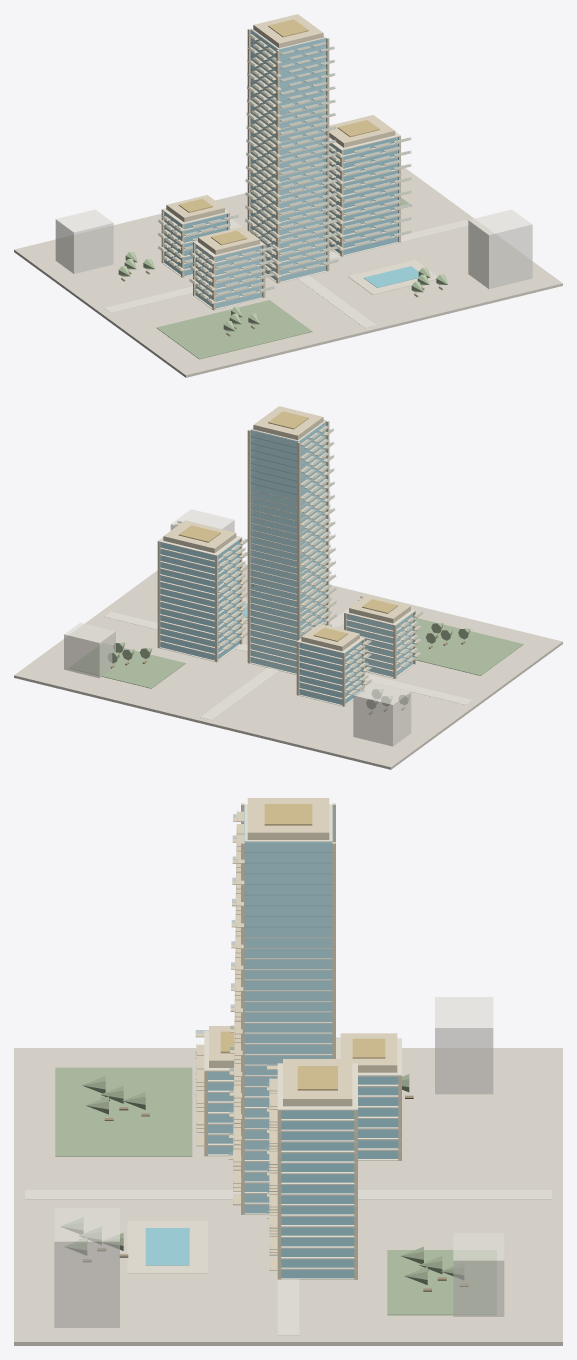
File: rich-ashira-v2.glb
The picture shows the model from 3 angles, top to bottom: view 1: azimuth 30°, elevation 25°; view 2: azimuth 150°, elevation 25°; view 3: azimuth 270°, elevation 25°; orthographic projection. The views are drawn at different scales.
Visible parts, largest first — view 1: site, b0glass, green1, ctx0, b1glass, ctx1, b2glass, pathx, b3glass, b0crown, b1crown, courtdeck (+7 smaller); view 2: site, b0glass, b1glass, green1, ctx1, green2, b3glass, ctx2, b2glass, pathx, b0crown, b1crown (+7 smaller); view 3: site, b0glass, green1, b1glass, ctx0, green2, ctx1, ctx2, pathz, b3glass, courtdeck, b0crown (+49 smaller).
Part boxes in pixels (x1=…): site: x1=14, y1=164, x2=562, y2=377; b0glass: x1=250, y1=29, x2=326, y2=281; green1: x1=156, y1=300, x2=312, y2=359; ctx0: x1=468, y1=209, x2=532, y2=288; b1glass: x1=329, y1=137, x2=398, y2=254; ctx1: x1=55, y1=209, x2=113, y2=273; b2glass: x1=195, y1=245, x2=262, y2=308; pathx: x1=104, y1=219, x2=472, y2=312; b3glass: x1=164, y1=212, x2=226, y2=275; b0crown: x1=253, y1=14, x2=323, y2=48; b1crown: x1=323, y1=115, x2=395, y2=147; courtdeck: x1=348, y1=260, x2=437, y2=294; site: x1=14, y1=564, x2=562, y2=769; b0glass: x1=250, y1=421, x2=326, y2=673; b1glass: x1=160, y1=540, x2=239, y2=660; green1: x1=412, y1=618, x2=523, y2=675; ctx1: x1=353, y1=682, x2=411, y2=746; green2: x1=69, y1=643, x2=185, y2=688; b3glass: x1=299, y1=641, x2=362, y2=704; ctx2: x1=64, y1=623, x2=115, y2=678; b2glass: x1=346, y1=613, x2=413, y2=676; pathx: x1=104, y1=611, x2=472, y2=704; b0crown: x1=253, y1=406, x2=323, y2=440; b1crown: x1=163, y1=520, x2=236, y2=553; site: x1=14, y1=1048, x2=562, y2=1345; b0glass: x1=244, y1=804, x2=332, y2=1213; green1: x1=55, y1=1067, x2=192, y2=1156; b1glass: x1=281, y1=1110, x2=354, y2=1278; ctx0: x1=54, y1=1207, x2=119, y2=1327; green2: x1=387, y1=1250, x2=496, y2=1315; ctx1: x1=435, y1=997, x2=493, y2=1094; ctx2: x1=453, y1=1233, x2=504, y2=1316; pathz: x1=25, y1=1190, x2=551, y2=1199; b3glass: x1=358, y1=1076, x2=398, y2=1158; courtdeck: x1=127, y1=1221, x2=207, y2=1273; b0crown: x1=247, y1=798, x2=329, y2=839.
Bounding box in the file's own units: 190 × 116 × 150.
